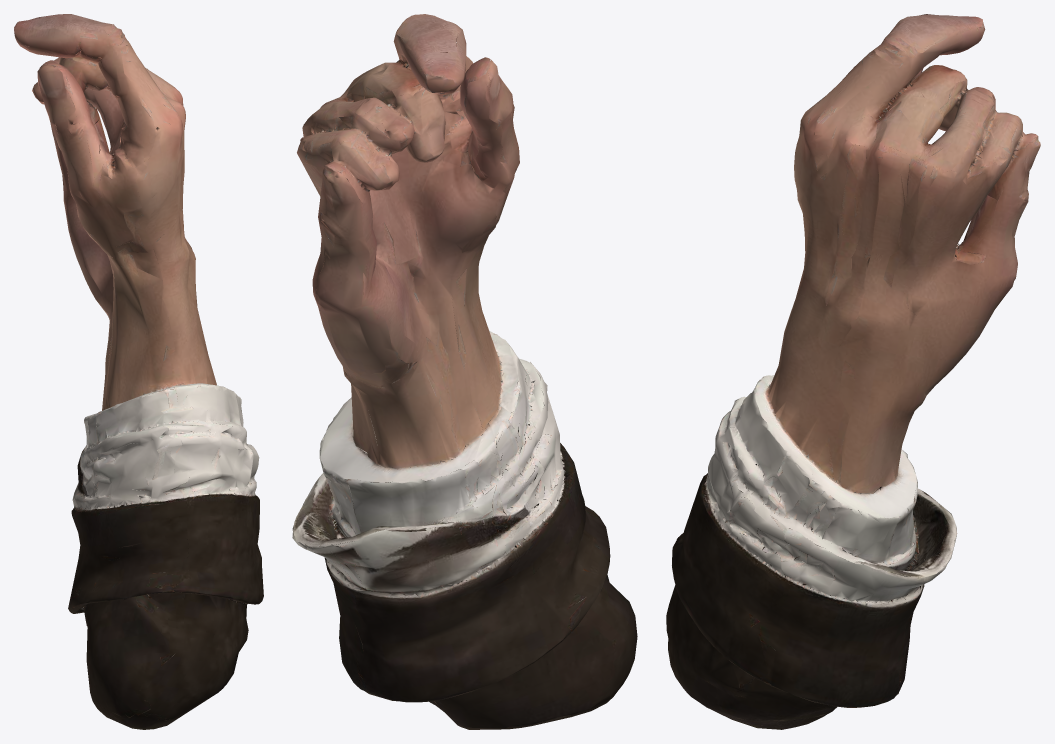
The model's file is first-person-left-grip.glb.
The picture shows the model from 3 angles, left to right: view 1: azimuth 30°, elevation 25°; view 2: azimuth 150°, elevation 25°; view 3: azimuth 270°, elevation 25°; orthographic projection. The views are drawn at different scales.
Visible parts, largest first — view 1: Mesh_0; view 2: Mesh_0; view 3: Mesh_0.
Boxes of the visible parts, x1,y1,x2,y2 form: Mesh_0: (14, 14, 263, 729); Mesh_0: (292, 14, 637, 729); Mesh_0: (666, 14, 1040, 729).
Bounding box in the file's own units: 0.6297 × 1.9 × 0.925.
Materials: 1 (1 with a texture image).
